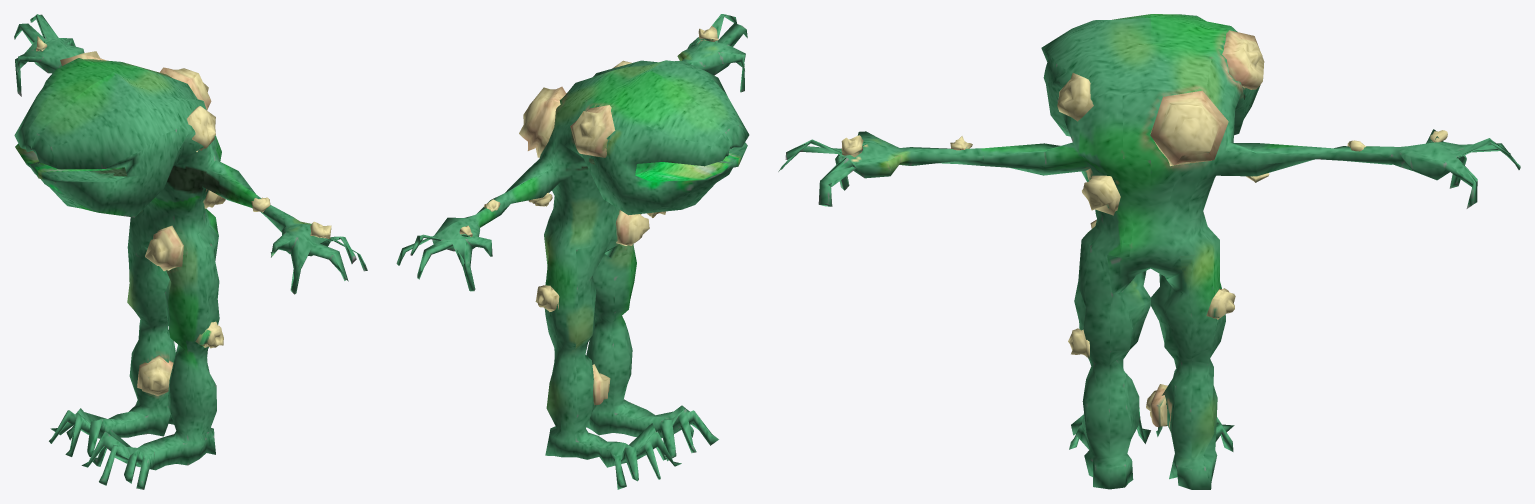
Rendered from Monster.fbx.
The picture shows the model from 3 angles, left to right: view 1: azimuth 30°, elevation 25°; view 2: azimuth 150°, elevation 25°; view 3: azimuth 270°, elevation 25°; orthographic projection. The views are drawn at different scales.
Visible parts, largest first — view 1: Monster; view 2: Monster; view 3: Monster.
Part boxes in pixels (box(x1,y1,x2,y2)): Monster: box(14, 14, 367, 489); Monster: box(396, 14, 749, 489); Monster: box(778, 14, 1520, 489).
Size of the model in its own units: 198 by 383 by 589.
